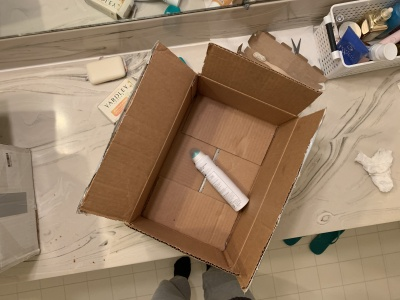innerbox: (161, 86, 262, 260)
outerbox: (119, 47, 299, 277)
product: (188, 147, 249, 212)
